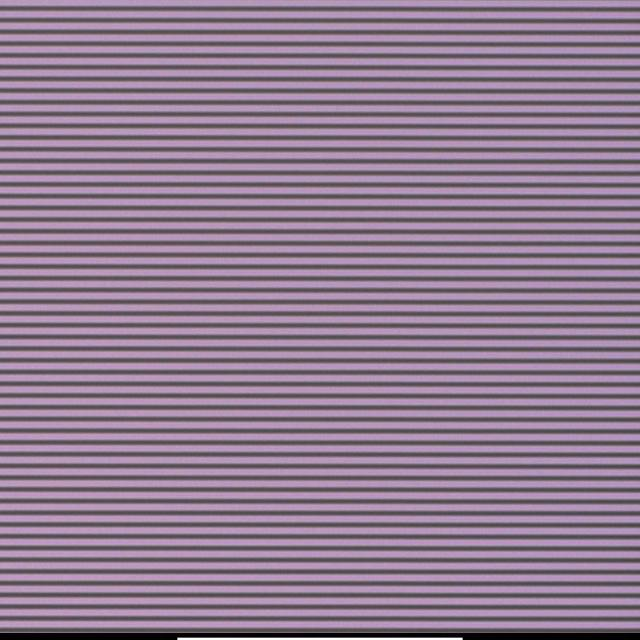nonvisual: (306, 300, 317, 312)
